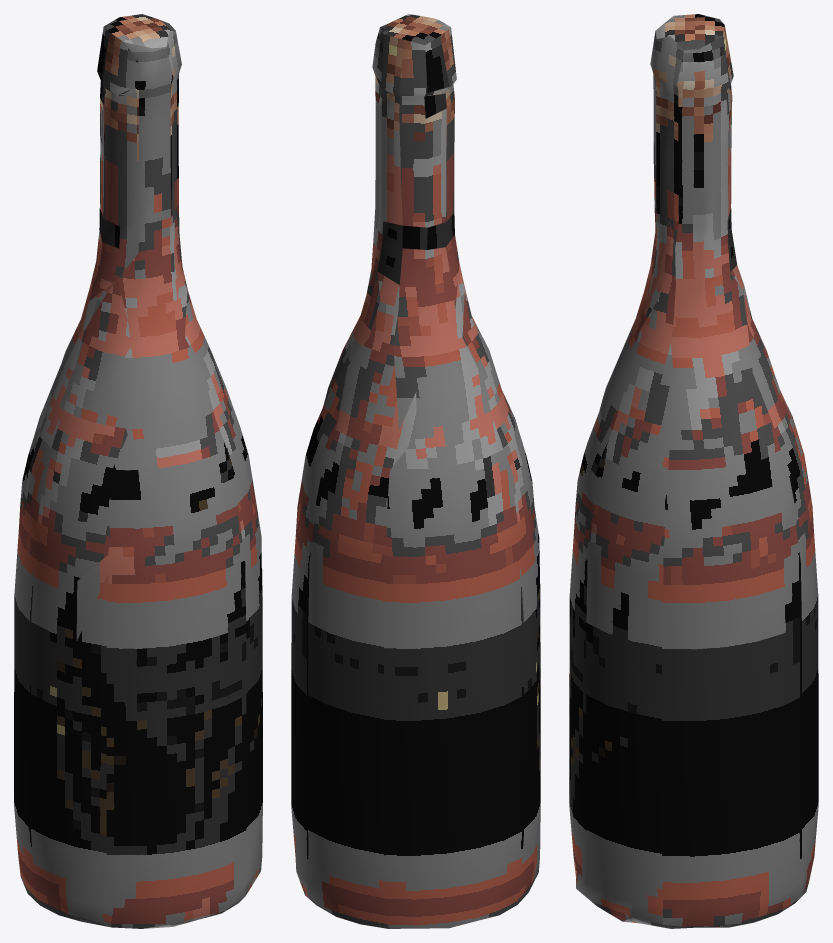
Rendered from wine_bottle_burgundy.glb.
The picture shows the model from 3 angles, left to right: view 1: azimuth 30°, elevation 25°; view 2: azimuth 150°, elevation 25°; view 3: azimuth 270°, elevation 25°; orthographic projection.
Parts seen in each view (by area): view 1: body; view 2: body; view 3: body.
Part boxes in pixels (<box>): body: <box>14,14,262,928</box>; body: <box>291,14,540,928</box>; body: <box>569,14,818,928</box>.
Bounding box in the file's own units: 0.0804 × 0.306 × 0.0804.
1 material, 1 textured.
